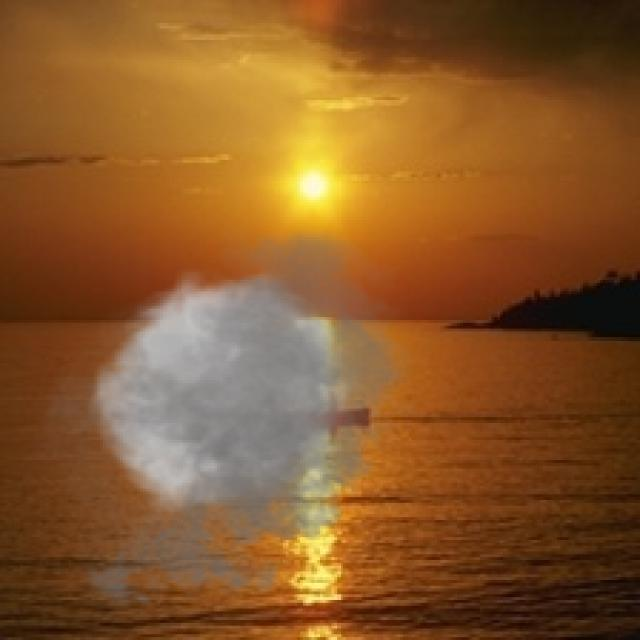Smoke: (20, 215, 426, 620)
